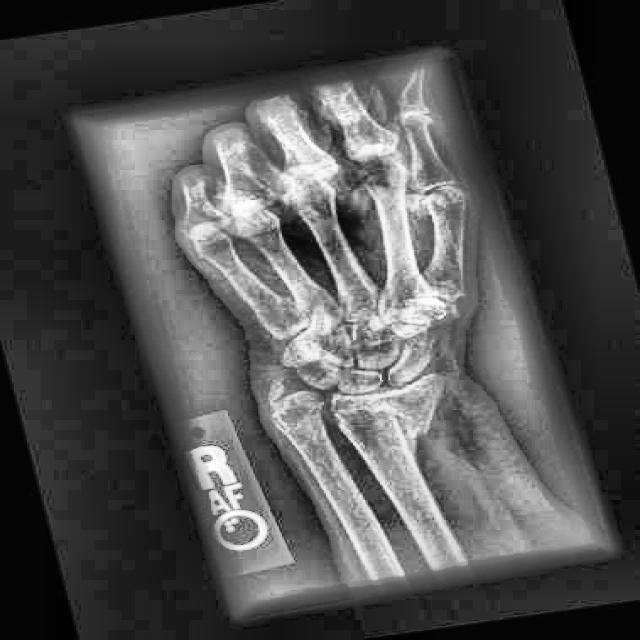wrist positive: (260, 387, 458, 445)
